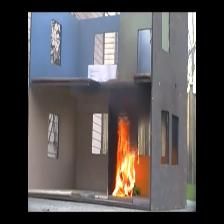fire: (116, 123, 137, 195)
smoke: (114, 88, 149, 111)
